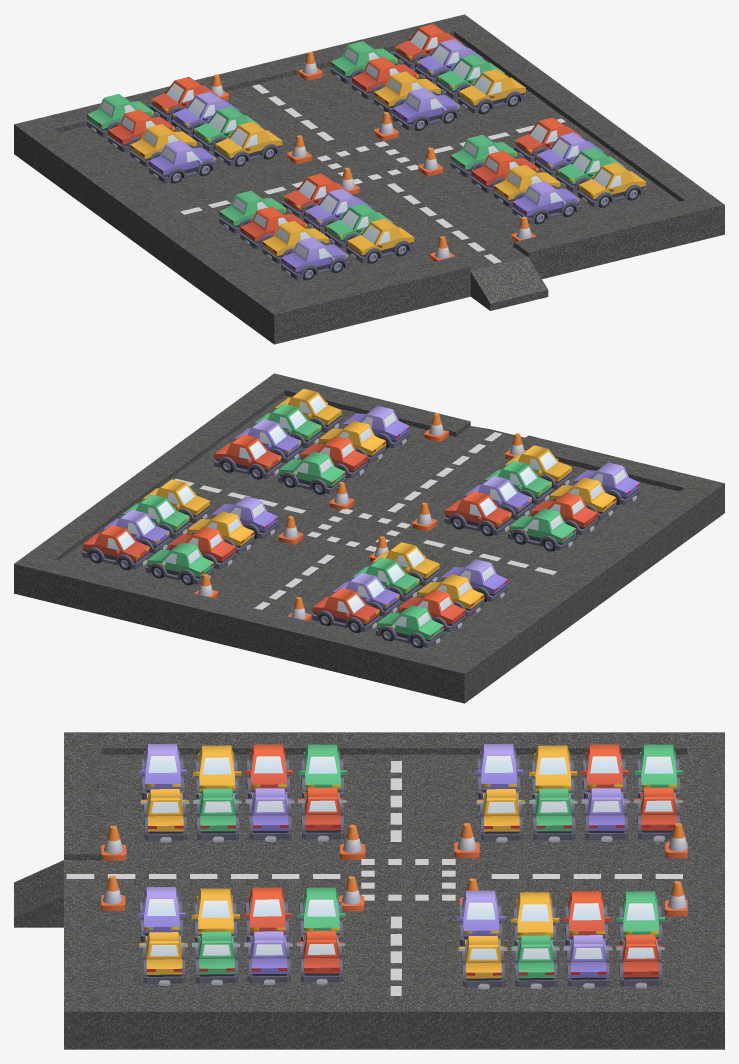
Rendered from Futuro_Estacionamiento.glb.
3 renders of one model, top to bottom at view 1: azimuth 30°, elevation 25°; view 2: azimuth 150°, elevation 25°; view 3: azimuth 270°, elevation 25°, orthographic. The views are drawn at different scales.
Visible parts, largest first — view 1: Estacionamiento_Terreno; view 2: Estacionamiento_Terreno; view 3: Estacionamiento_Terreno.
Part boxes in pixels (x1,y1,x2,y2): Estacionamiento_Terreno: (14,14,724,344); Estacionamiento_Terreno: (14,373,724,703); Estacionamiento_Terreno: (14,732,724,1049).
Bounding box in the file's own units: 47.46 × 5.49 × 51.04.
Materials: 3 (3 with a texture image).
